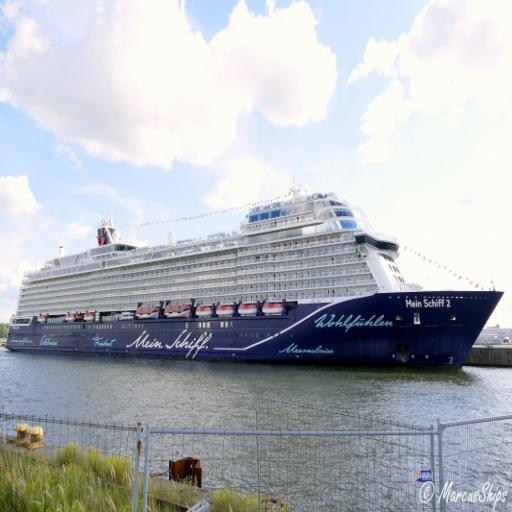cruises: (5, 182, 507, 384)
